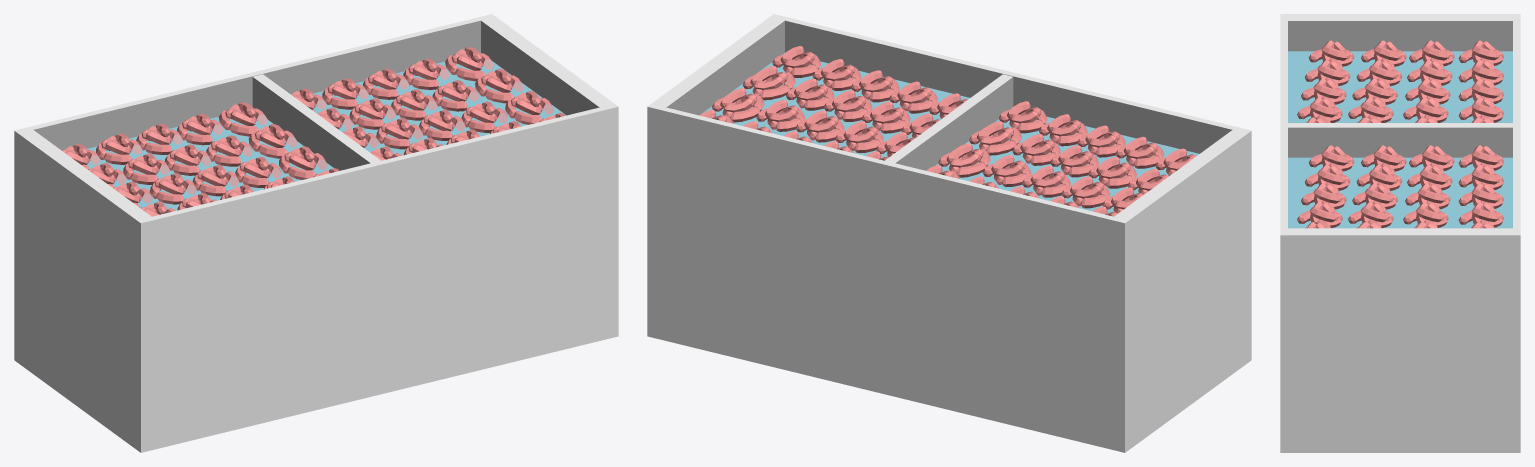
The model's file is sausage_box.gltf.
3 views of the same model, side by side, from view 1: azimuth 30°, elevation 25°; view 2: azimuth 150°, elevation 25°; view 3: azimuth 270°, elevation 25° (orthographic). The views are drawn at different scales.
Parts seen in each view (by area): view 1: Cube.002, sausages_001.006, sausages_001.001; view 2: Cube.002, sausages_001.006, sausages_001.001; view 3: Cube.002, sausages_001.001, sausages_001.006.
Boxes of the visible parts, x1,y1,x2,y2 form: Cube.002: (14, 14, 618, 452); sausages_001.006: (62, 102, 338, 216); sausages_001.001: (291, 47, 565, 160); Cube.002: (647, 14, 1251, 452); sausages_001.006: (926, 101, 1196, 216); sausages_001.001: (700, 46, 967, 160); Cube.002: (1280, 14, 1520, 452); sausages_001.001: (1297, 145, 1503, 228); sausages_001.006: (1297, 40, 1503, 122).
Size of the model in its own units: 9.22 by 4.23 by 4.23.
2 materials, 2 textured.
